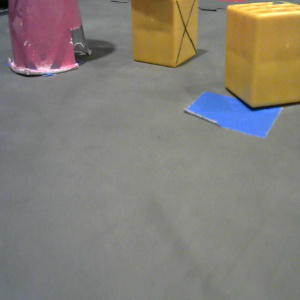middle: (7, 1, 92, 75)
